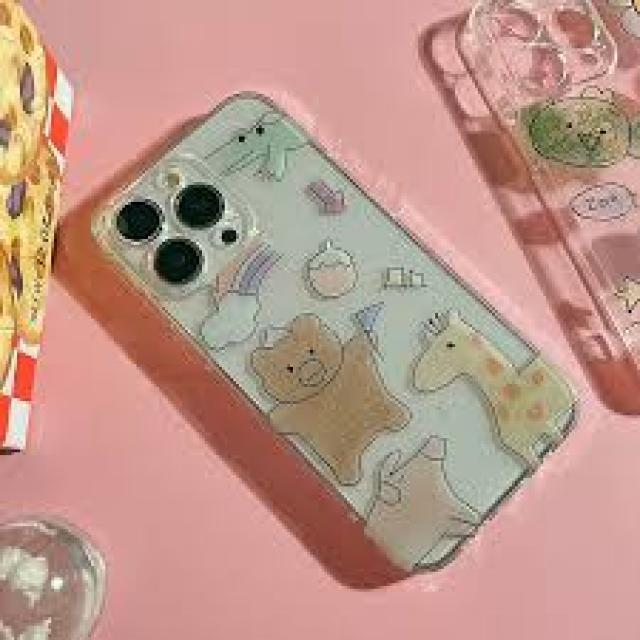lens: (104, 145, 268, 308)
phone: (91, 92, 577, 571)
